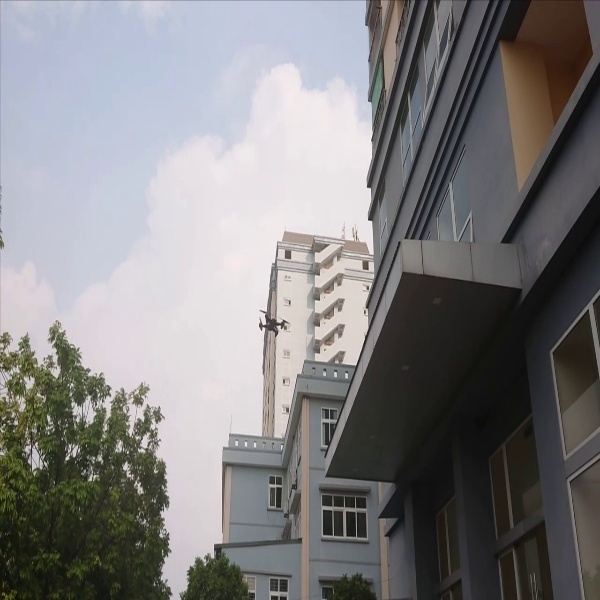drone: (245, 303, 293, 343)
